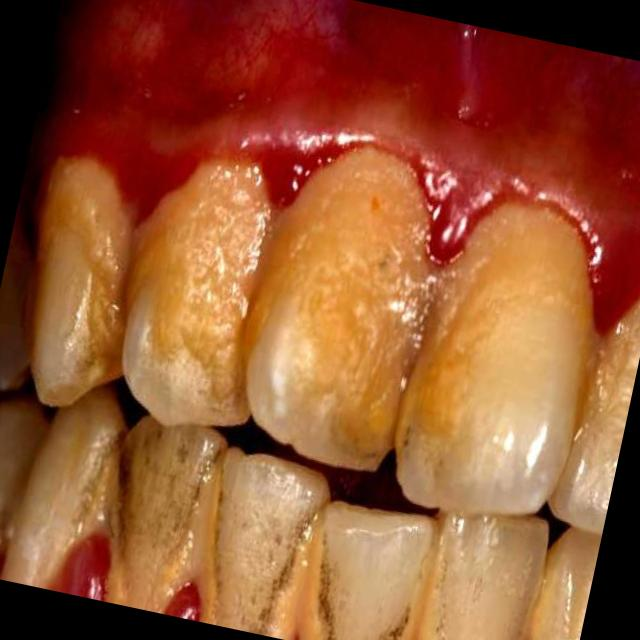calculus: (178, 428, 334, 640), (80, 408, 227, 618), (298, 495, 443, 640), (404, 498, 544, 640)
